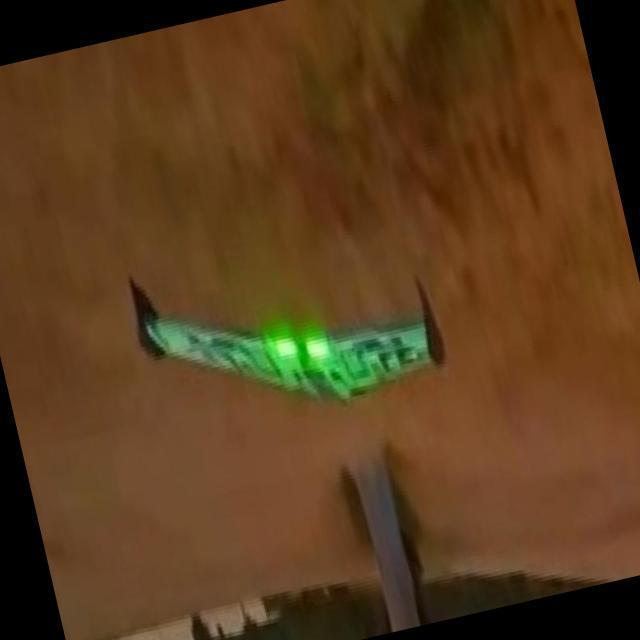iha: (118, 228, 425, 450)
